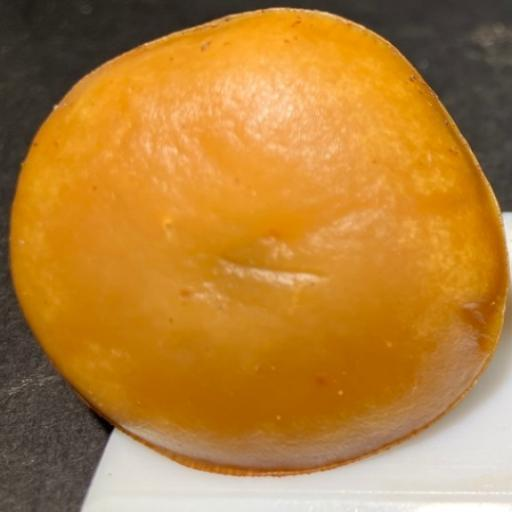mushroom: (7, 5, 506, 480)
